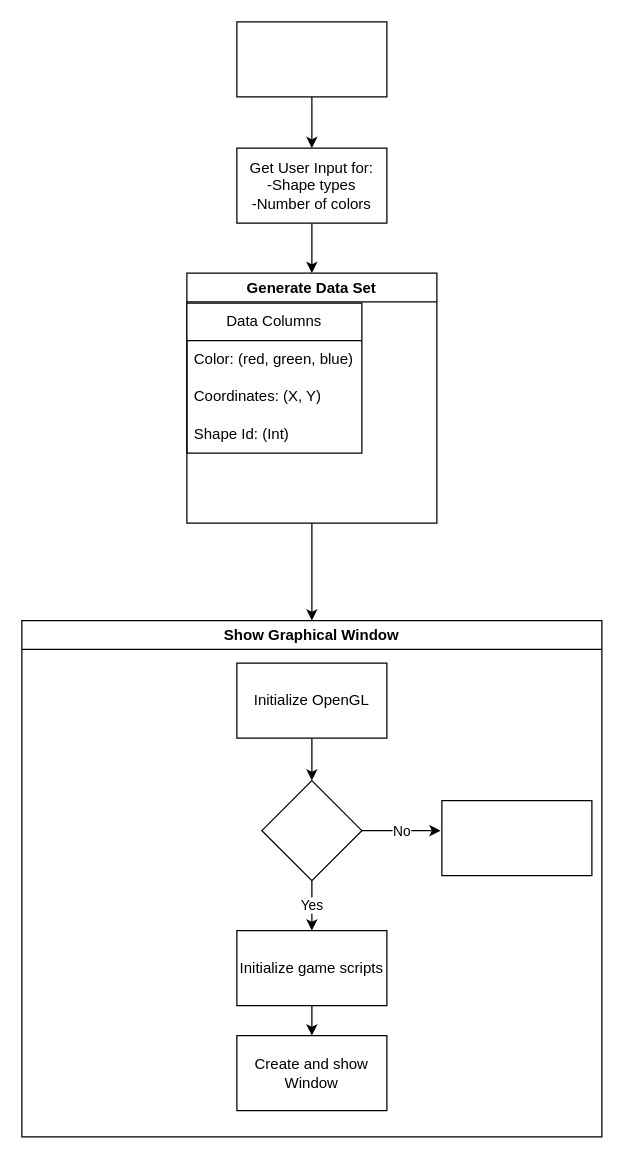
Image size: 624x1159. Some labels were removed from this diagram. Each missing label, with the centre of its shape:
"Is OpenGL 3.3 or higher?" belongs at point 311,830.
"Main" belongs at point 311,59.
"Show Error and exit program" belongs at point 516,837.
